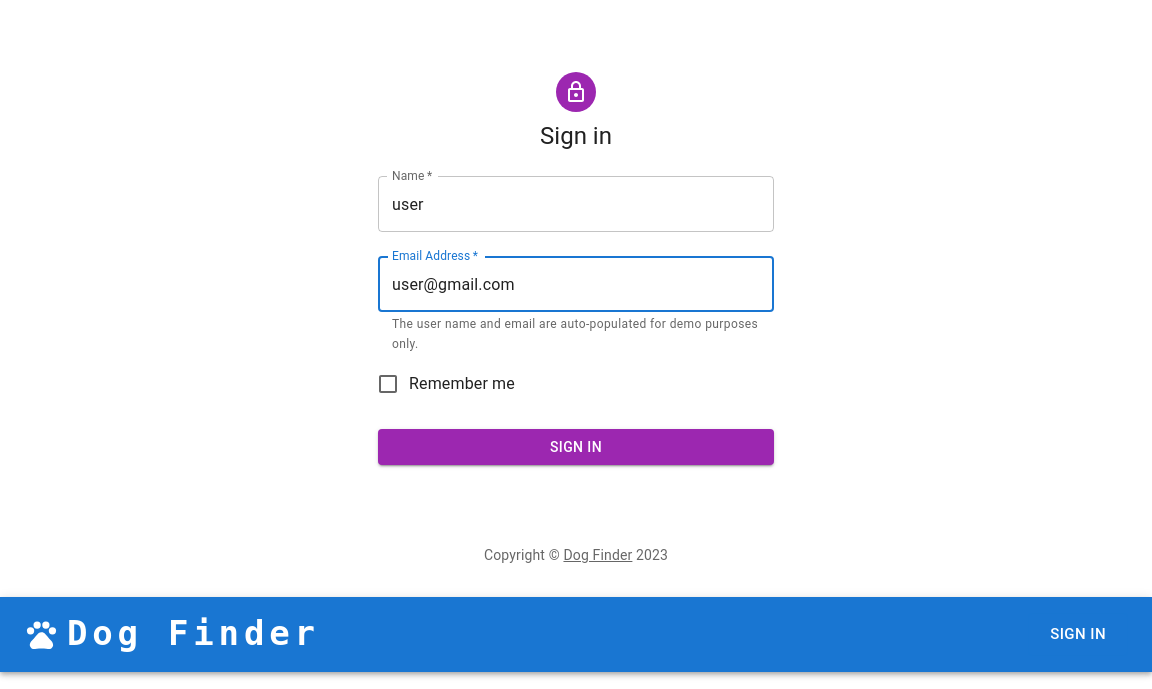
Test: Dog board › should disable post button when the dog form data is not complete or valid
Click the button with test id "sign-in-btn". click: click(576, 447)
box: x1=378 y1=429 x2=774 y2=465
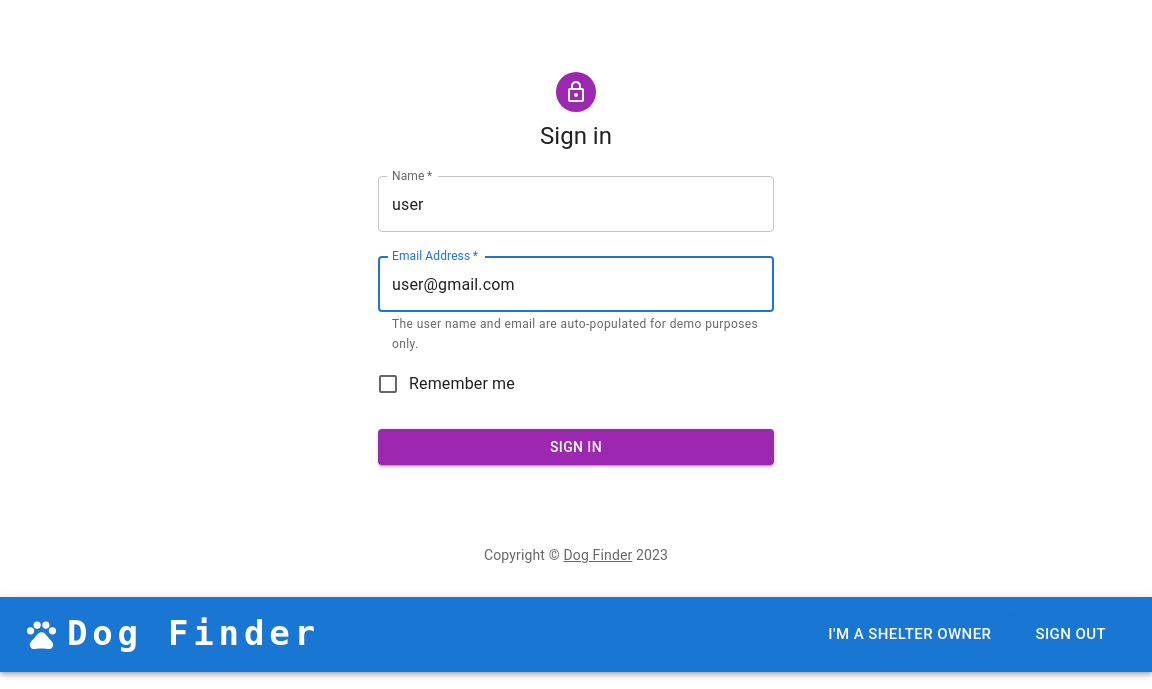
Click the button "I'm a shelter owner". click: click(910, 634)
box: x1=806 y1=613 x2=1013 y2=656
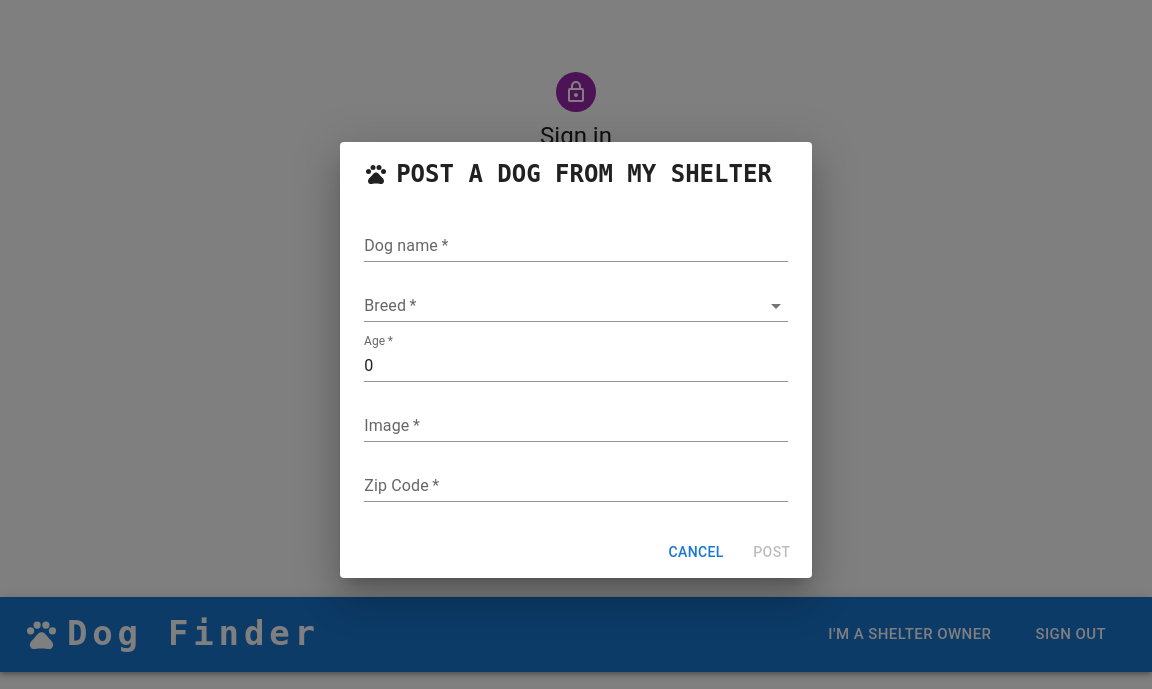
Expected: the button "Post" is disabled, x1=740 y1=534 x2=804 y2=570
